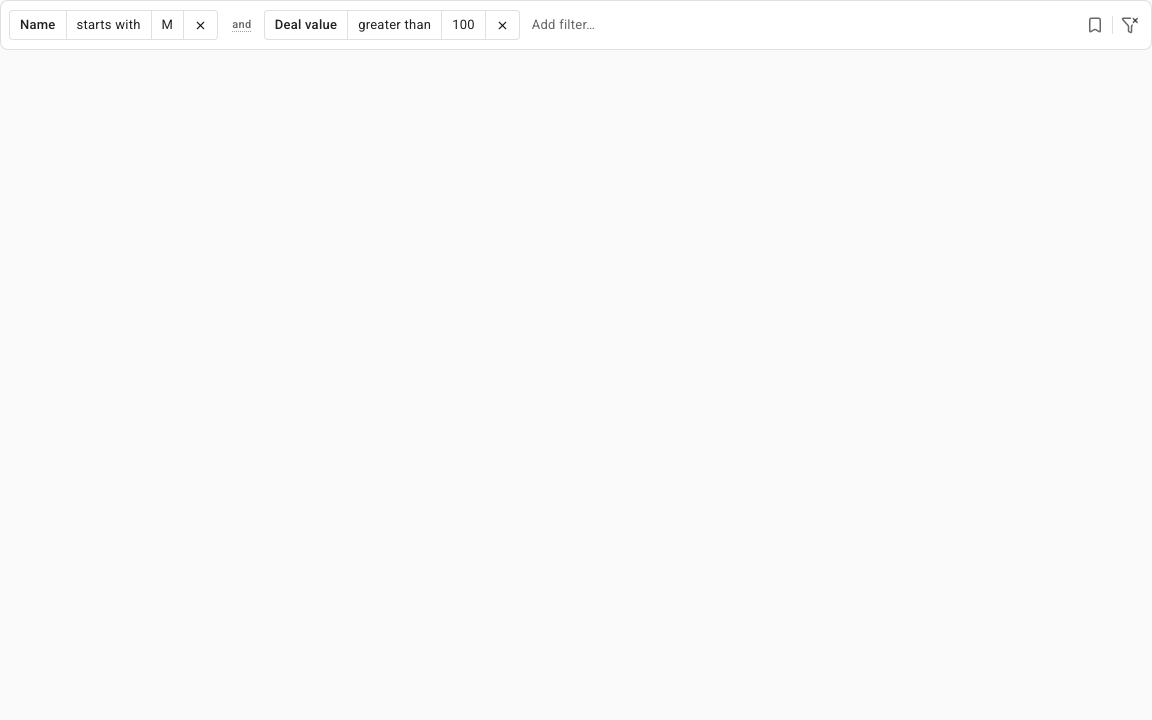
Test: token focus and traversal › ArrowDown on a segment opens that segment’s editor
Click the dropdown labelled "Add filter". click: [801, 25]
box: [528,11,1074,39]
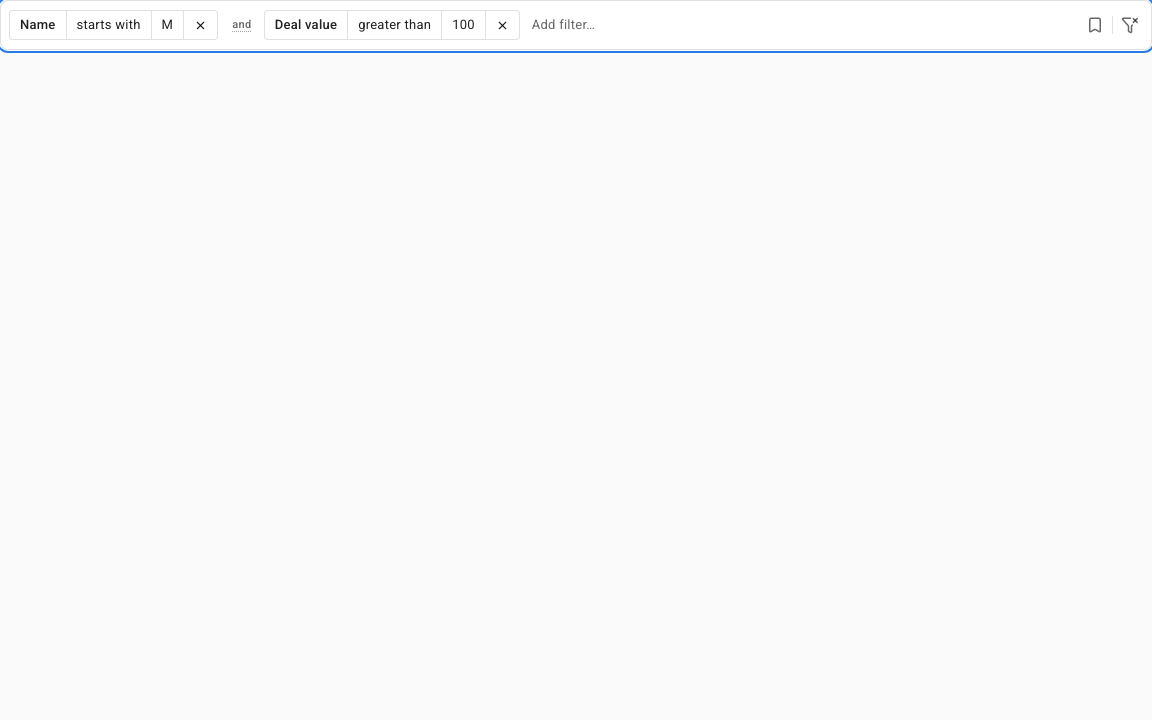
Press Backspace Enter
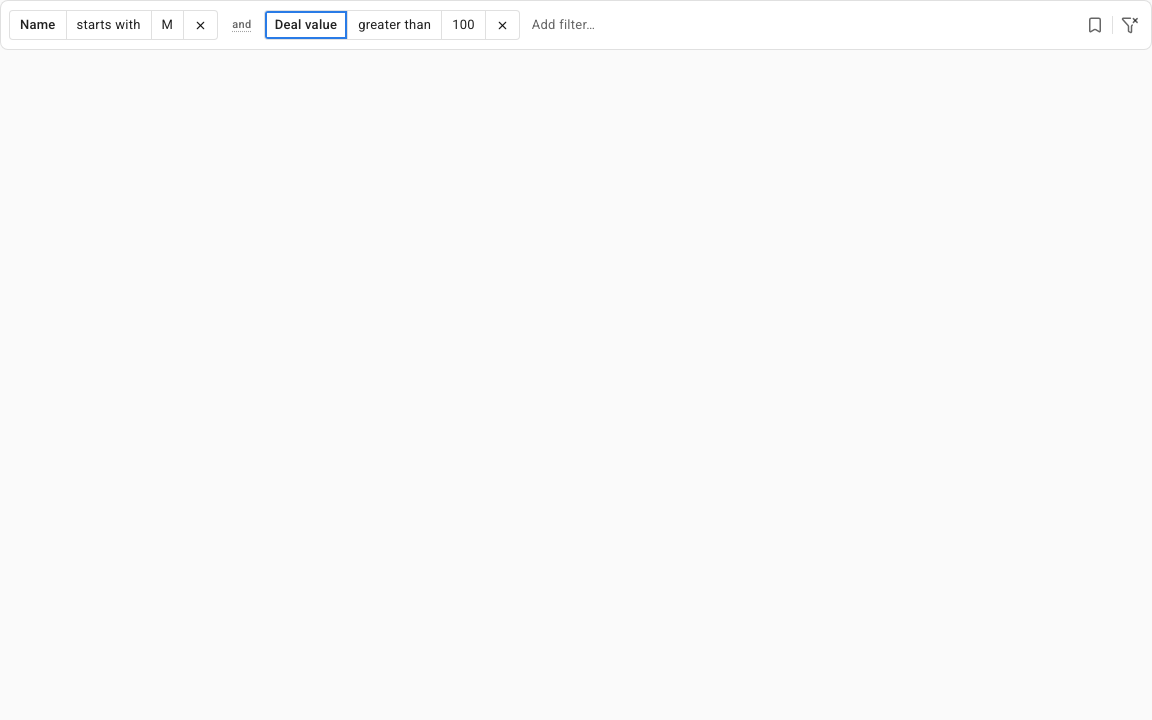
Press Arrowright
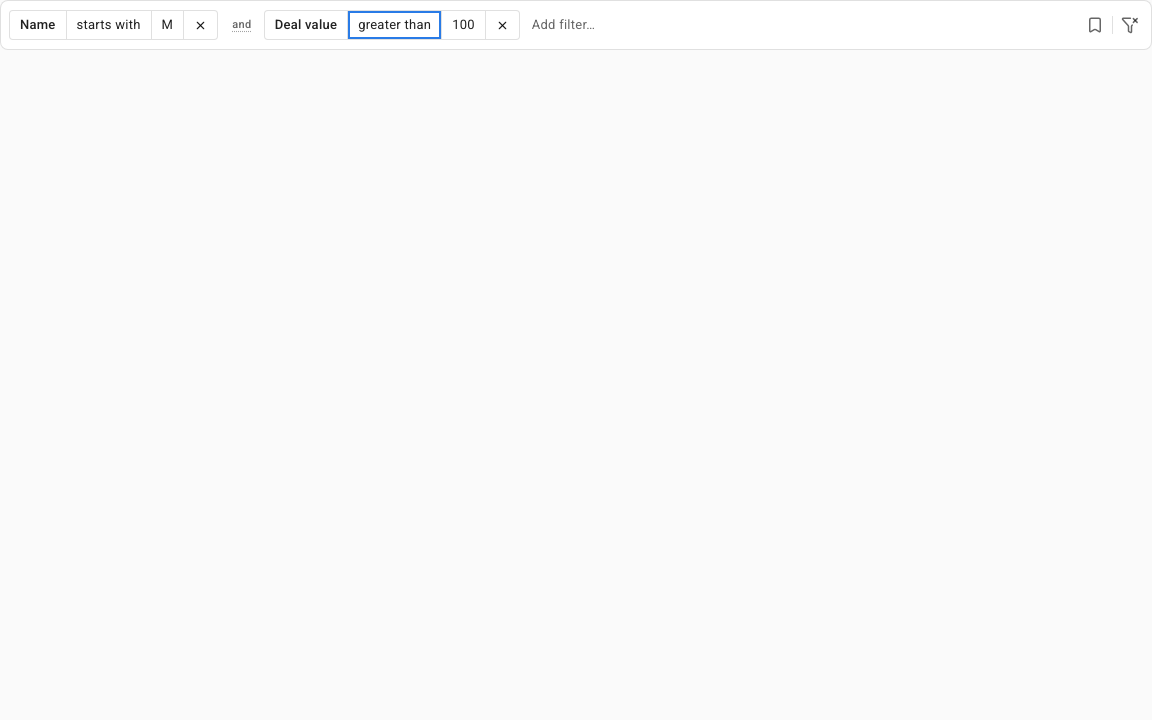
Press Arrowdown
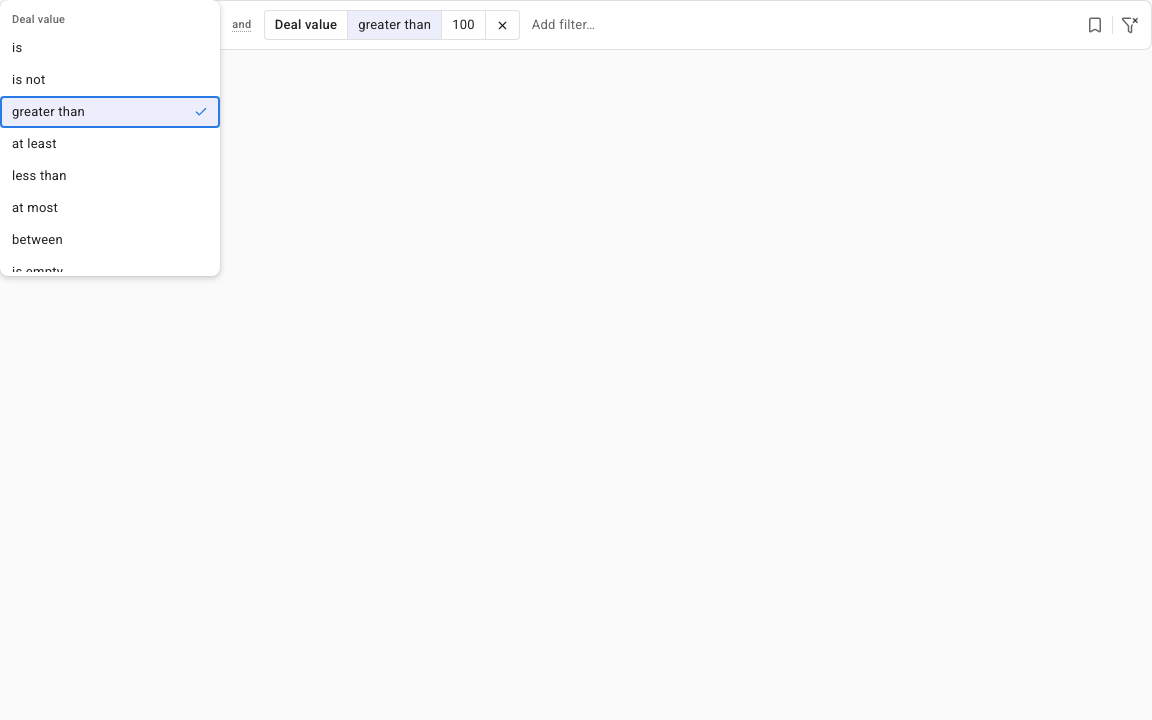
Expected: the dialog "Deal value" is shown, [0,0,220,276]
